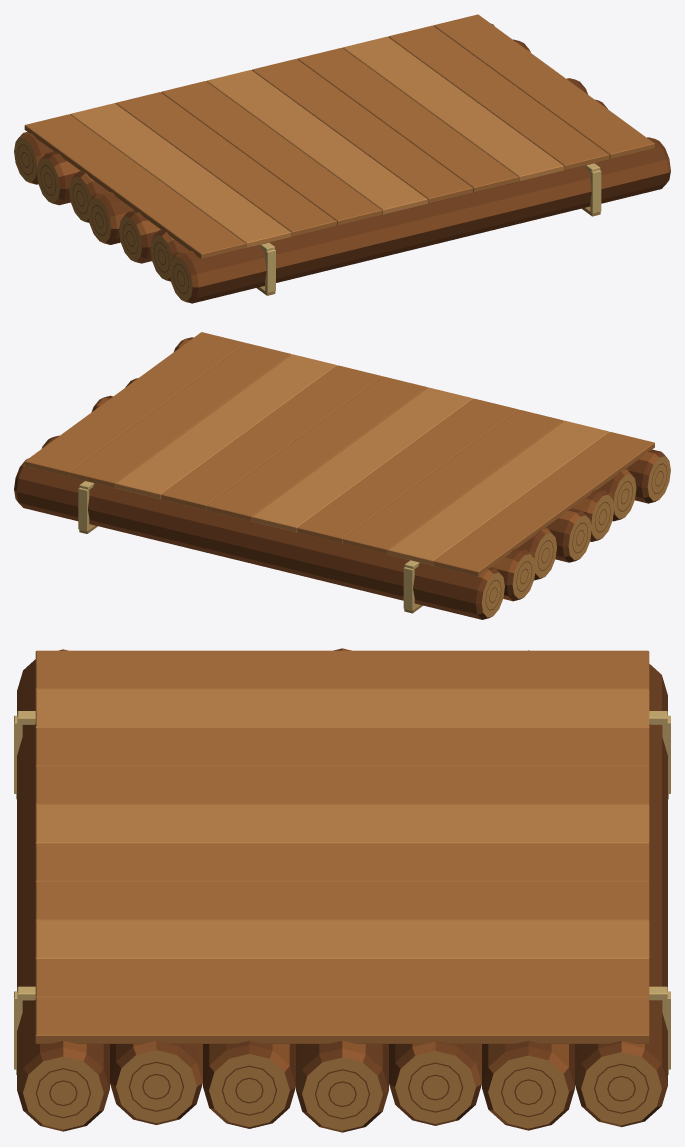
File: wooden_raft.obj
3 views of the same model, one above another, from view 1: azimuth 30°, elevation 25°; view 2: azimuth 150°, elevation 25°; view 3: azimuth 270°, elevation 25° (orthographic). The views are drawn at different scales.
Parts seen in each view (by area): view 1: WoodenRaft; view 2: WoodenRaft; view 3: WoodenRaft.
Part boxes in pixels (x1,y1,x2,y2): WoodenRaft: [14, 14, 670, 303]; WoodenRaft: [14, 332, 670, 619]; WoodenRaft: [14, 648, 670, 1132].
Size of the model in its own units: 20.11 by 2.11 by 13.7.
